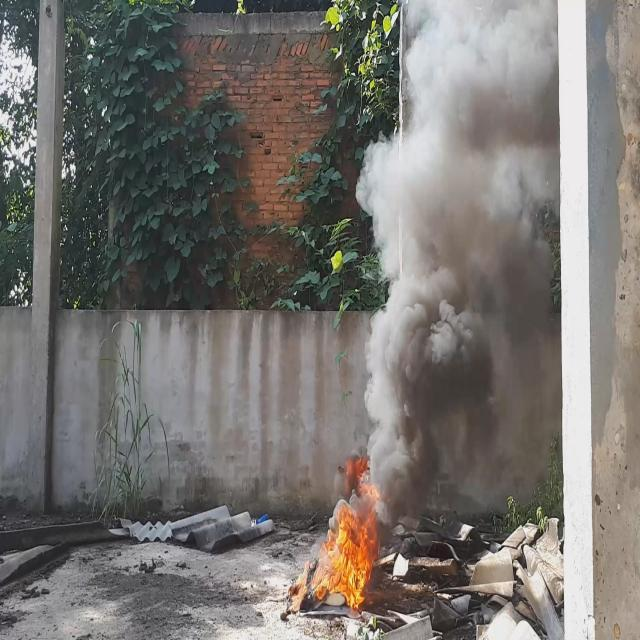Fire: (312, 481, 384, 609)
Smoke: (358, 0, 558, 520)
